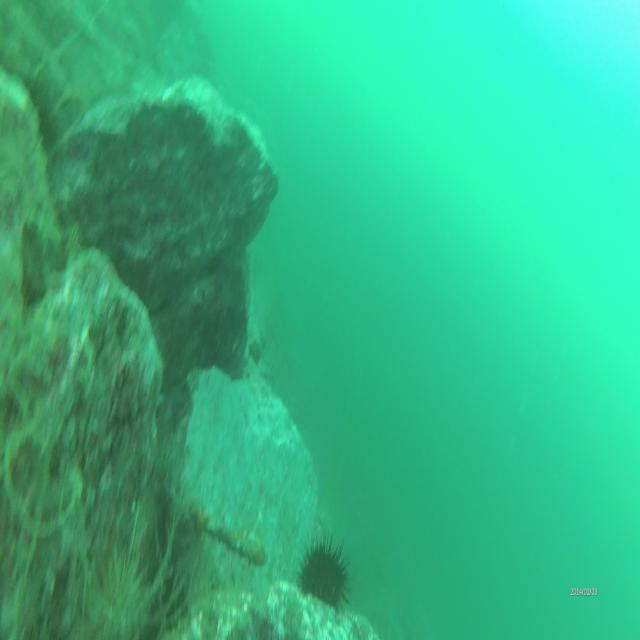echinus: (296, 524, 354, 616)
